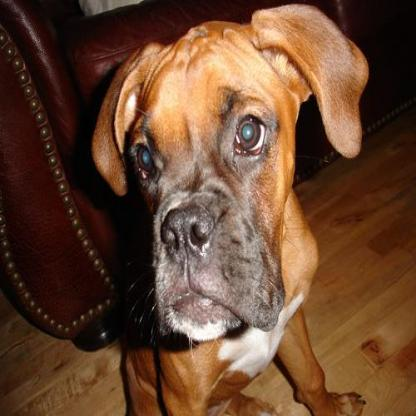boxer: (34, 0, 370, 414)
